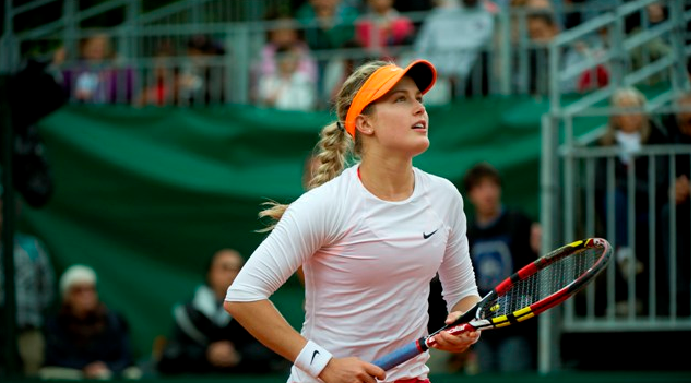tennis player: (220, 54, 489, 383)
